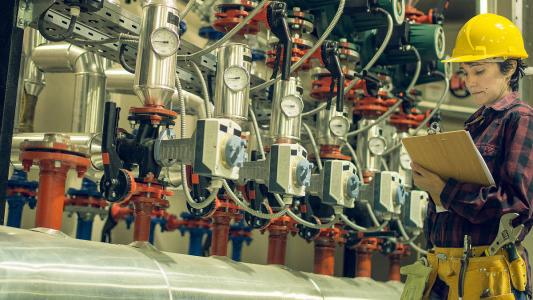helmet: (442, 6, 531, 111)
